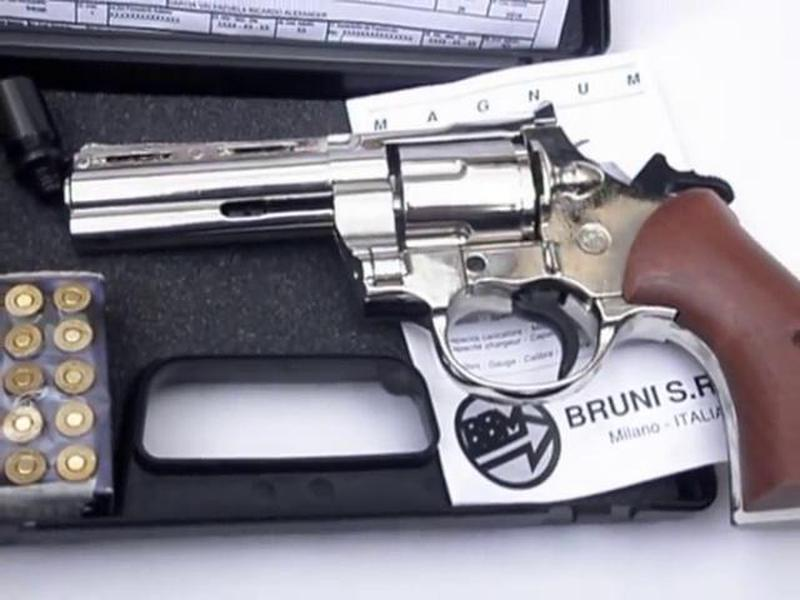Revolver: (59, 124, 800, 441)
